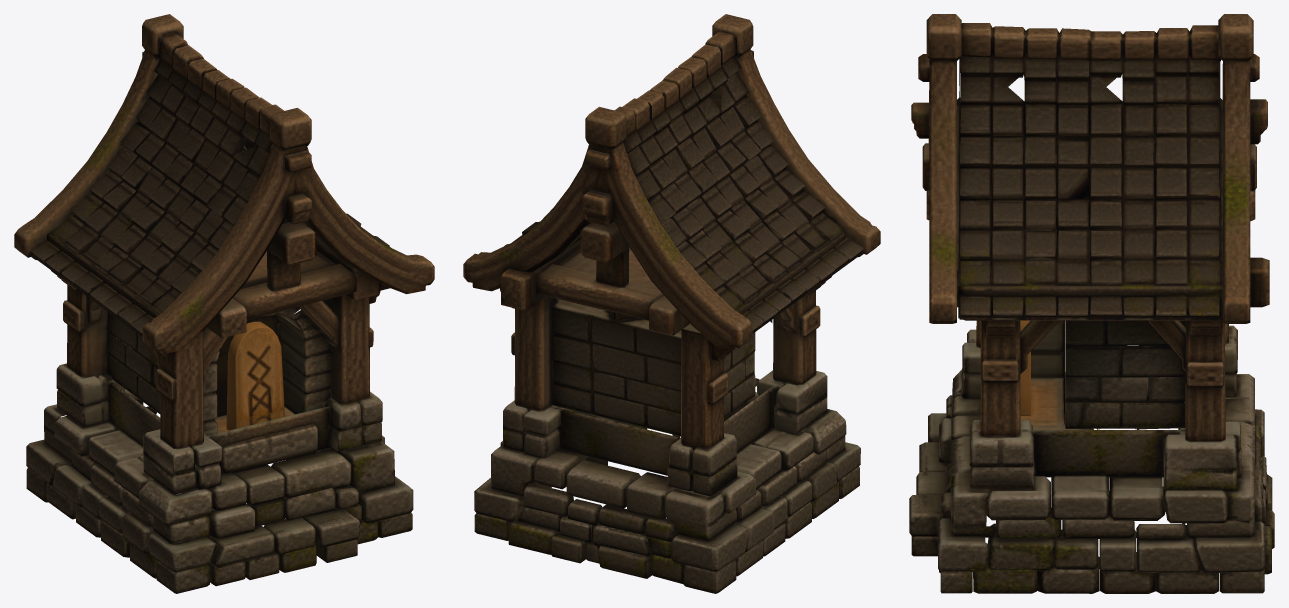
Rendered from source-tripo-p2.glb.
3 renders of one model, left to right at view 1: azimuth 30°, elevation 25°; view 2: azimuth 150°, elevation 25°; view 3: azimuth 270°, elevation 25°, orthographic. The views are drawn at different scales.
Parts seen in each view (by area): view 1: 63375851-bedb-45c3-afcc-b57463200db1; view 2: 63375851-bedb-45c3-afcc-b57463200db1; view 3: 63375851-bedb-45c3-afcc-b57463200db1.
Boxes of the visible parts, x1,y1,x2,y2 form: 63375851-bedb-45c3-afcc-b57463200db1: [14, 14, 434, 593]; 63375851-bedb-45c3-afcc-b57463200db1: [463, 14, 880, 593]; 63375851-bedb-45c3-afcc-b57463200db1: [909, 14, 1274, 593].
Bounding box in the file's own units: 0.6606 × 0.9995 × 0.6489.
Materials: 1 (1 with a texture image).
